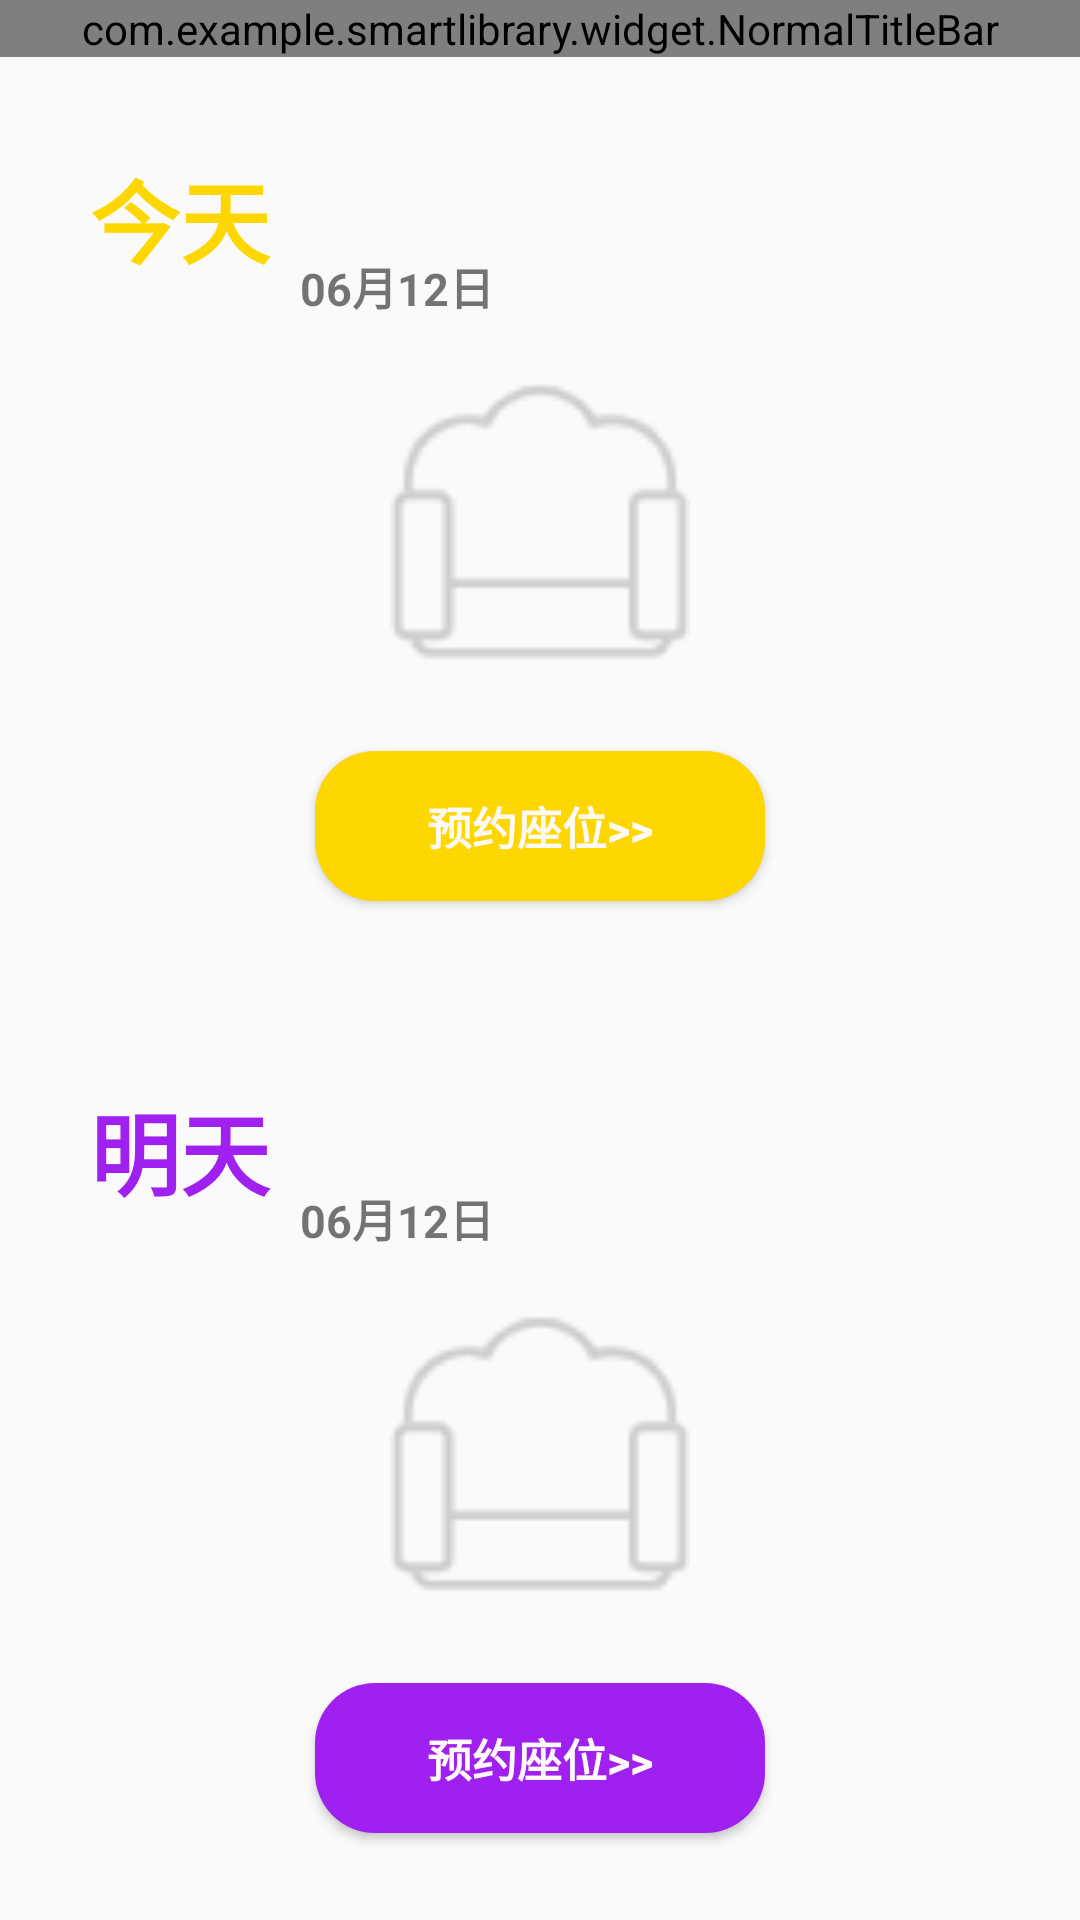

Icons on this 1080*1920 Android screen, each with the point to tap as [x,y]:
zuowei: [540,521], [540,1453]
